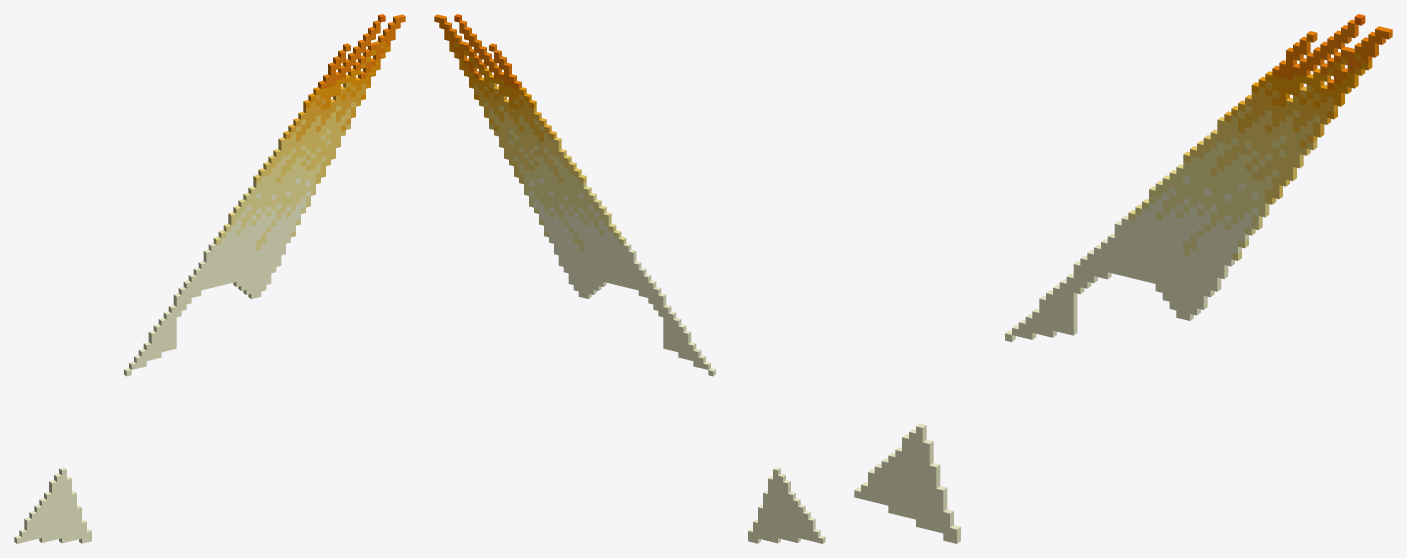
File: Fight_703_2_04_fx.obj
3 renders of one model, left to right at view 1: azimuth 30°, elevation 25°; view 2: azimuth 150°, elevation 25°; view 3: azimuth 330°, elevation 25°, orthographic. The views are drawn at different scales.
Bounding box in the file's own units: 7.8 × 8.7 × 0.1.
Materials: 1 (1 with a texture image).
